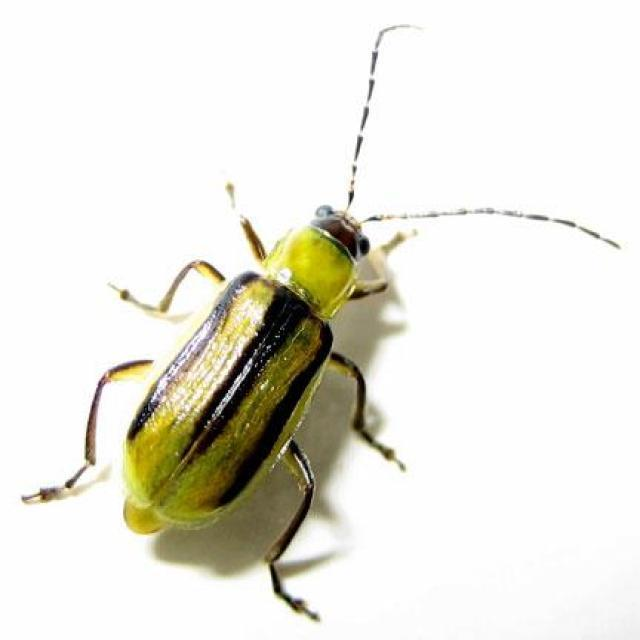trips: (22, 24, 620, 622)
